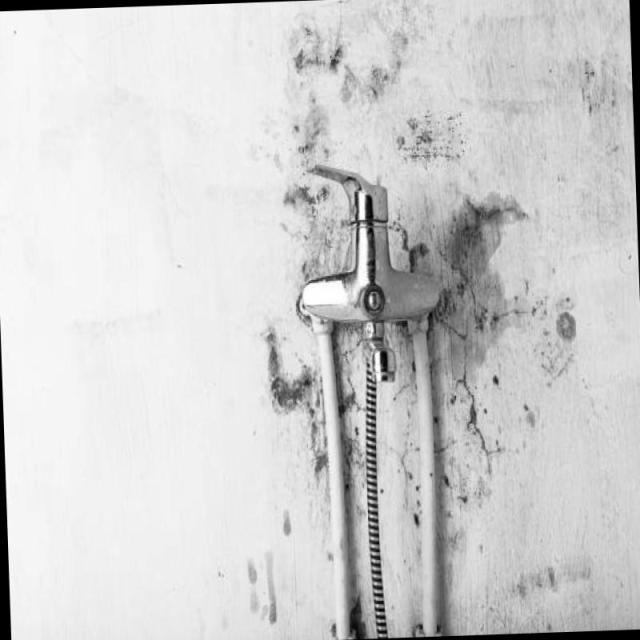stain marks: (186, 12, 585, 640)
